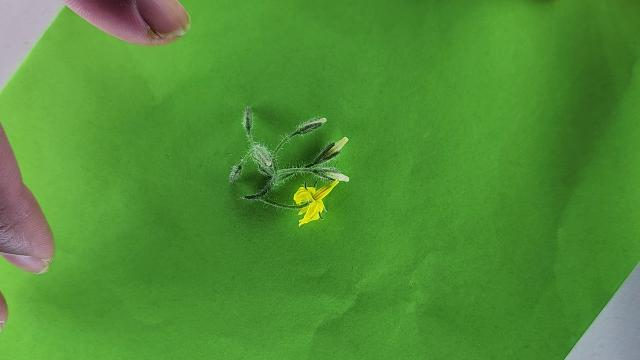Anthesis: (293, 179, 340, 226), (293, 184, 316, 205)
Flower Bud: (291, 116, 327, 137), (309, 141, 336, 165), (323, 136, 349, 157), (242, 187, 272, 200), (319, 170, 350, 182), (255, 146, 272, 167), (242, 106, 253, 135), (229, 163, 242, 183)
Fruit Bud: (229, 107, 276, 183)
